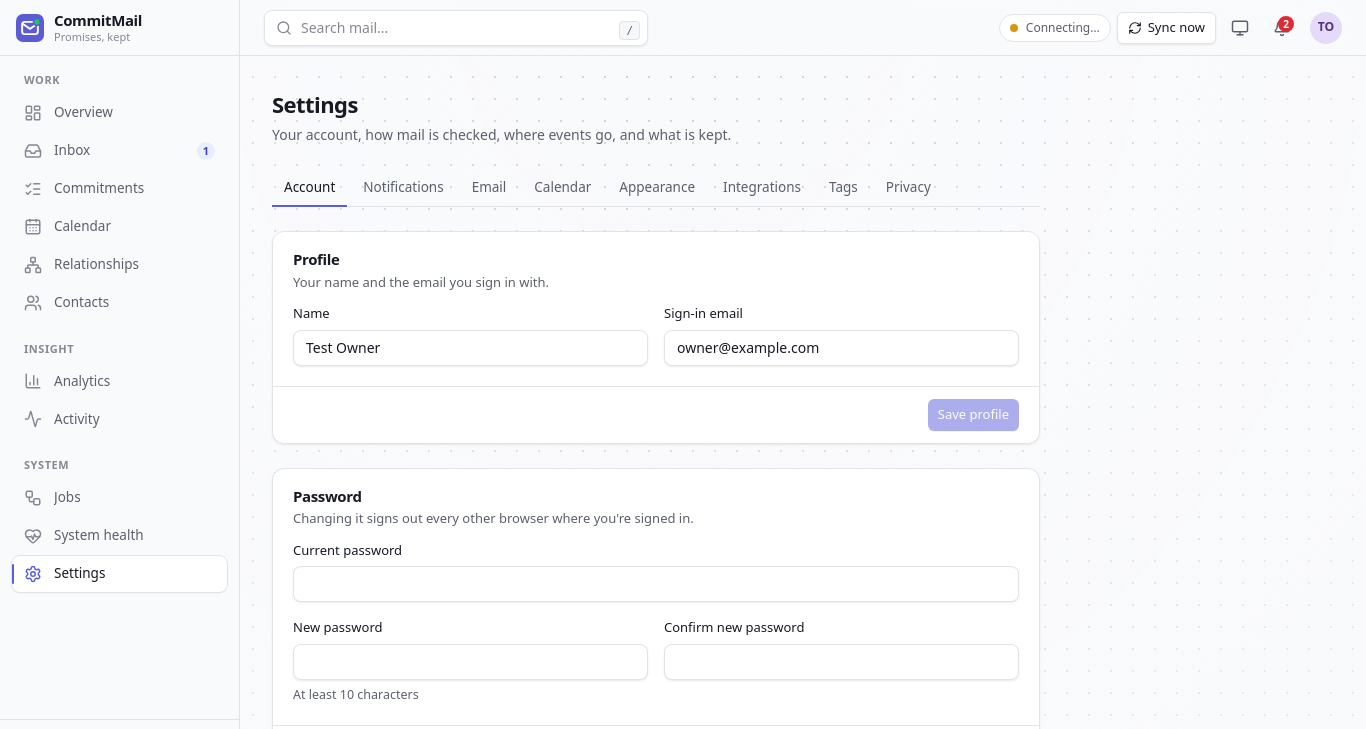
settings › won't change the password until the two new ones match
The image size is (1366, 729).
Type "old password 1" into the password field labelled "Current password" at (656, 584), box [293, 566, 1019, 602]
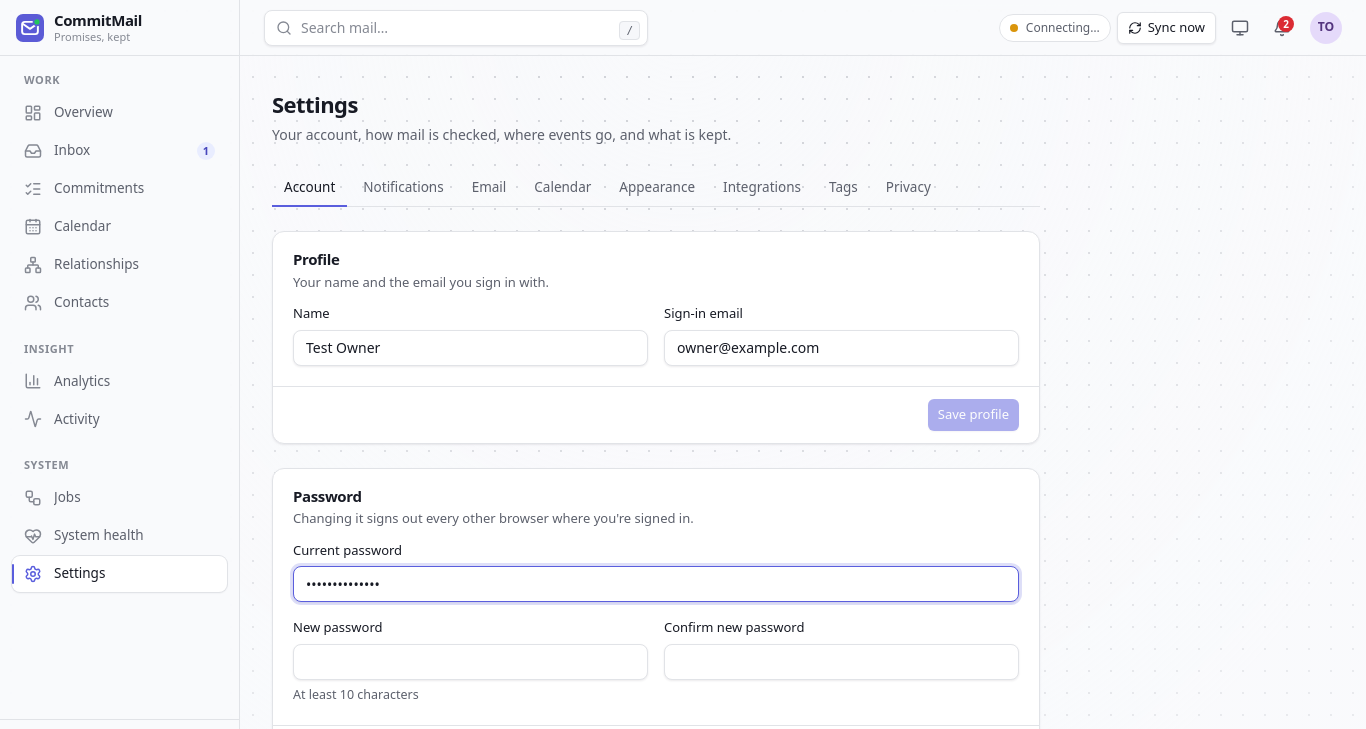
Type "a much better one" into the password field labelled "New password" at (470, 662), box [293, 644, 648, 680]
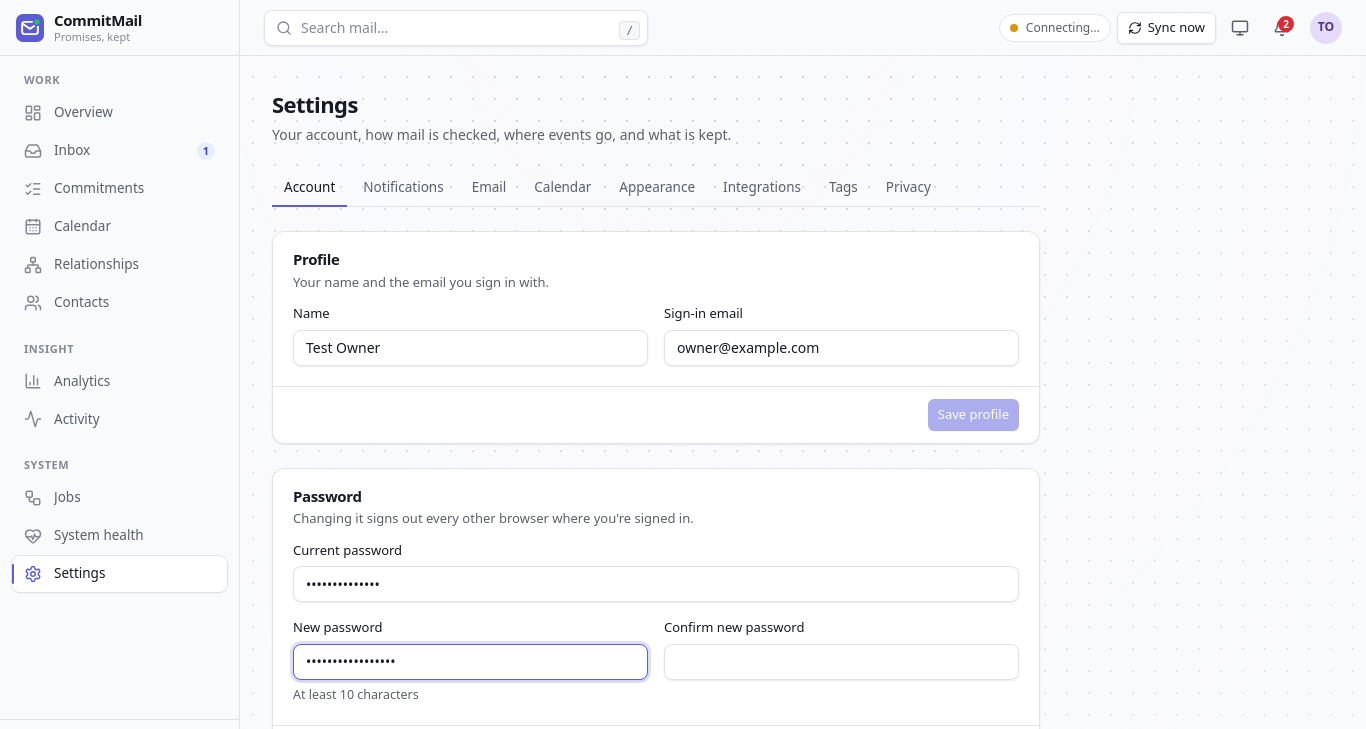
Type "a much better on" into the password field labelled "Confirm new password" at (842, 662), box [664, 644, 1019, 680]
(page scrolled)
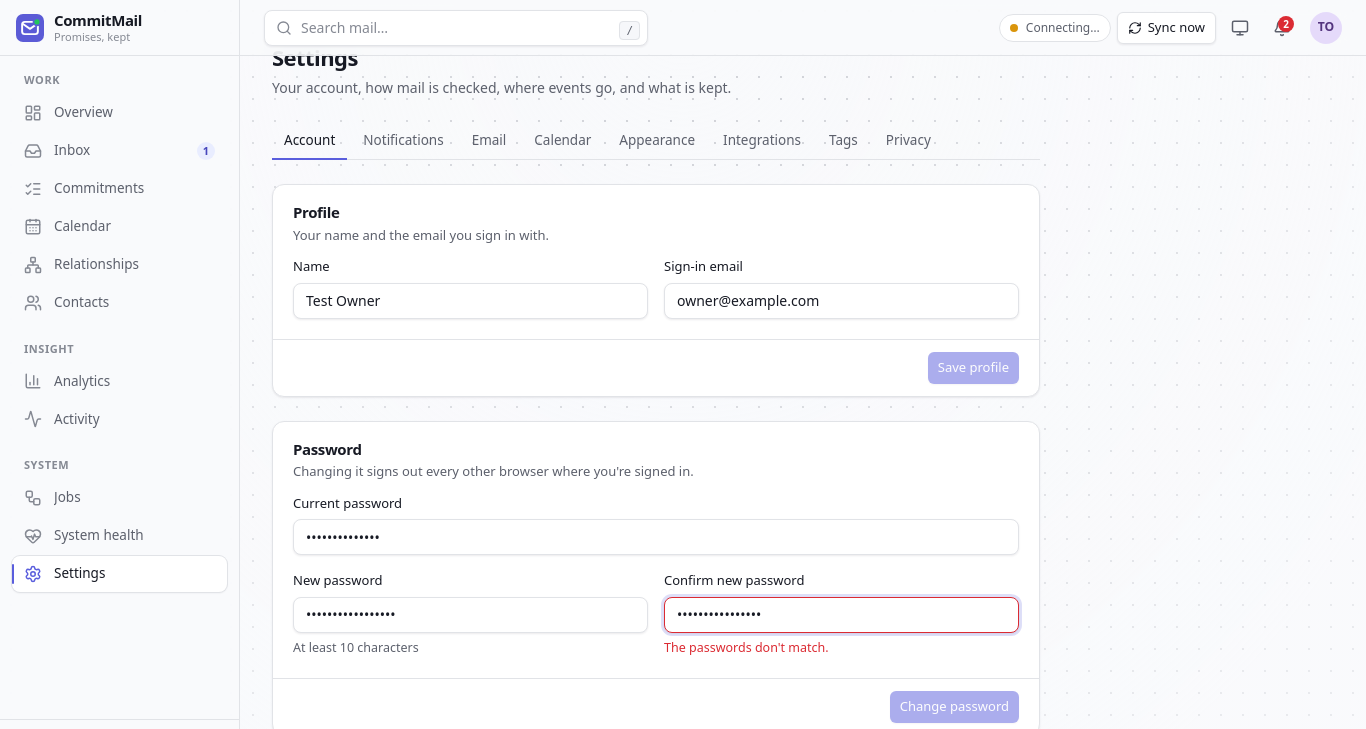
Expected: the button "Change password" is disabled, [890, 690, 1019, 722]
Expected: the text "The passwords don't match." is shown, [664, 639, 829, 656]
